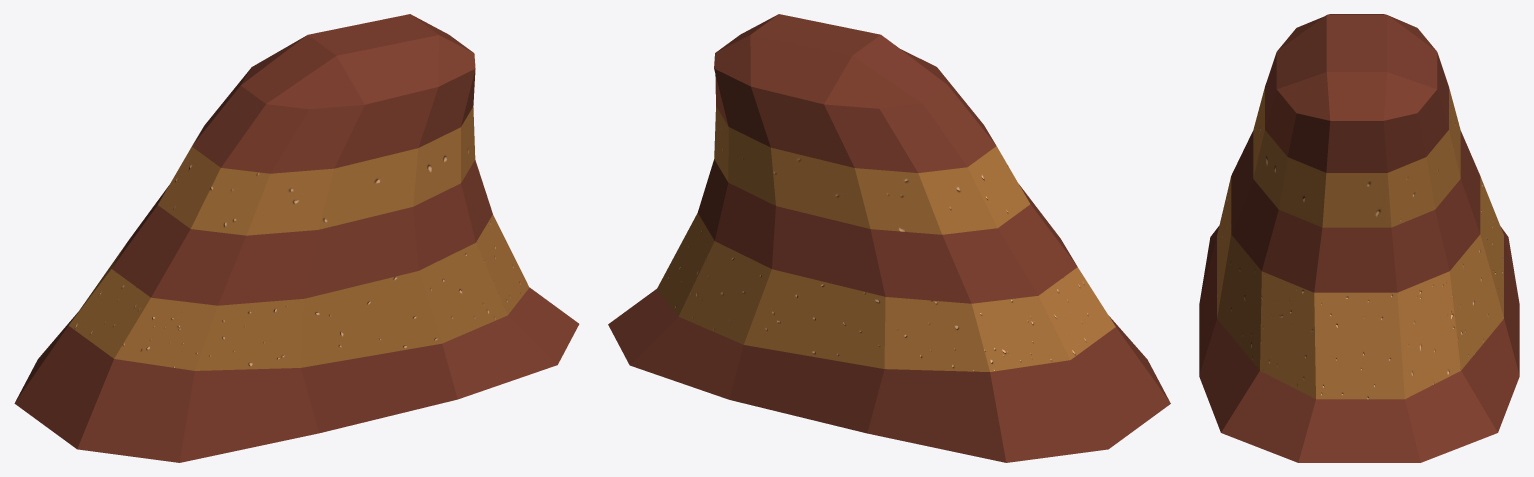
Rendered from Mountain_02_240419.fbx.
3 views of the same model, side by side, from view 1: azimuth 30°, elevation 25°; view 2: azimuth 150°, elevation 25°; view 3: azimuth 270°, elevation 25° (orthographic). The views are drawn at different scales.
Parts seen in each view (by area): view 1: Mountain_02; view 2: Mountain_02; view 3: Mountain_02.
Boxes of the visible parts, <box> form: Mountain_02: <box>14,14,579,462</box>; Mountain_02: <box>608,14,1170,462</box>; Mountain_02: <box>1199,14,1519,462</box>.
Bounding box in the file's own units: 2278 × 1358 × 1192.
